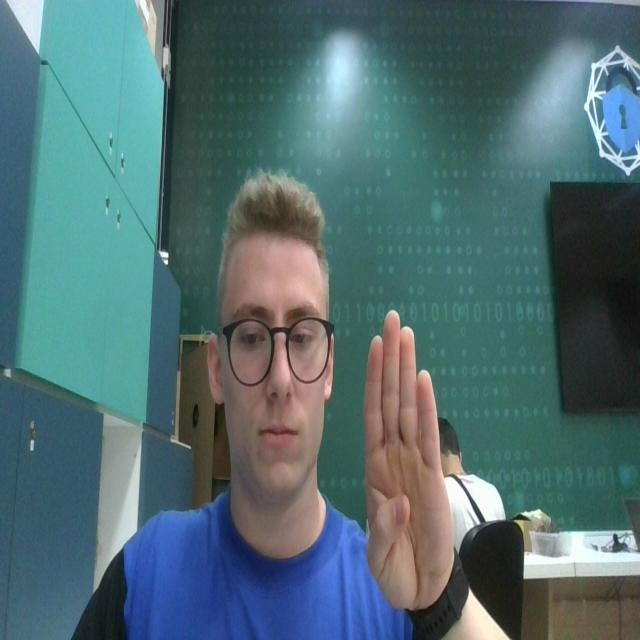B: (357, 309, 459, 603)
